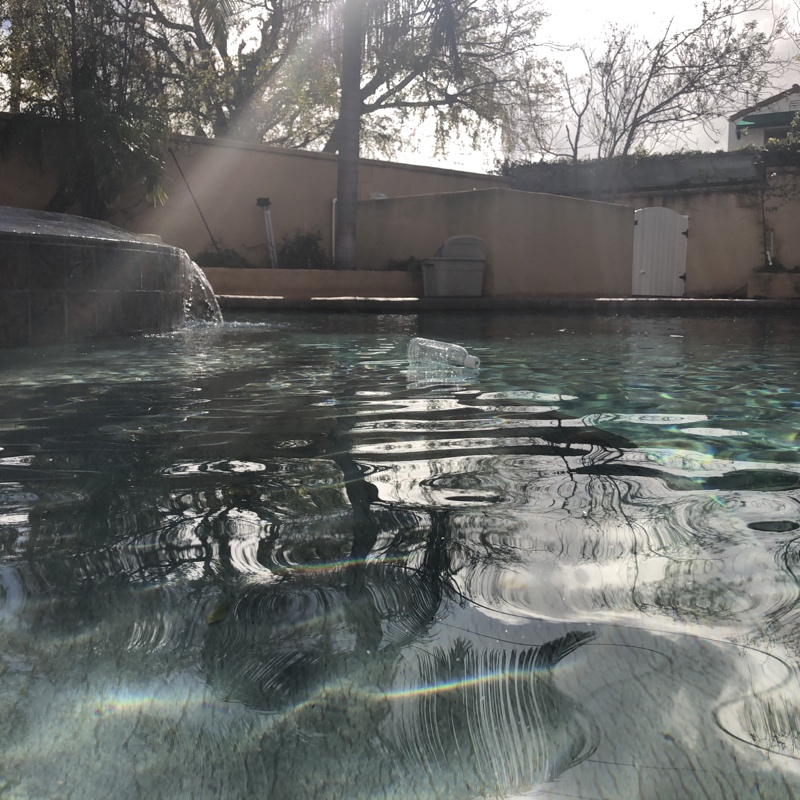Plastic Bottle: (404, 332, 483, 378)
